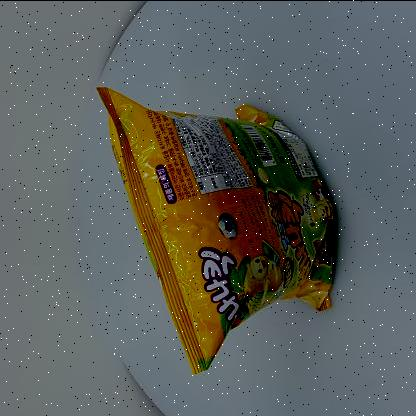Others: (87, 68, 343, 380)
